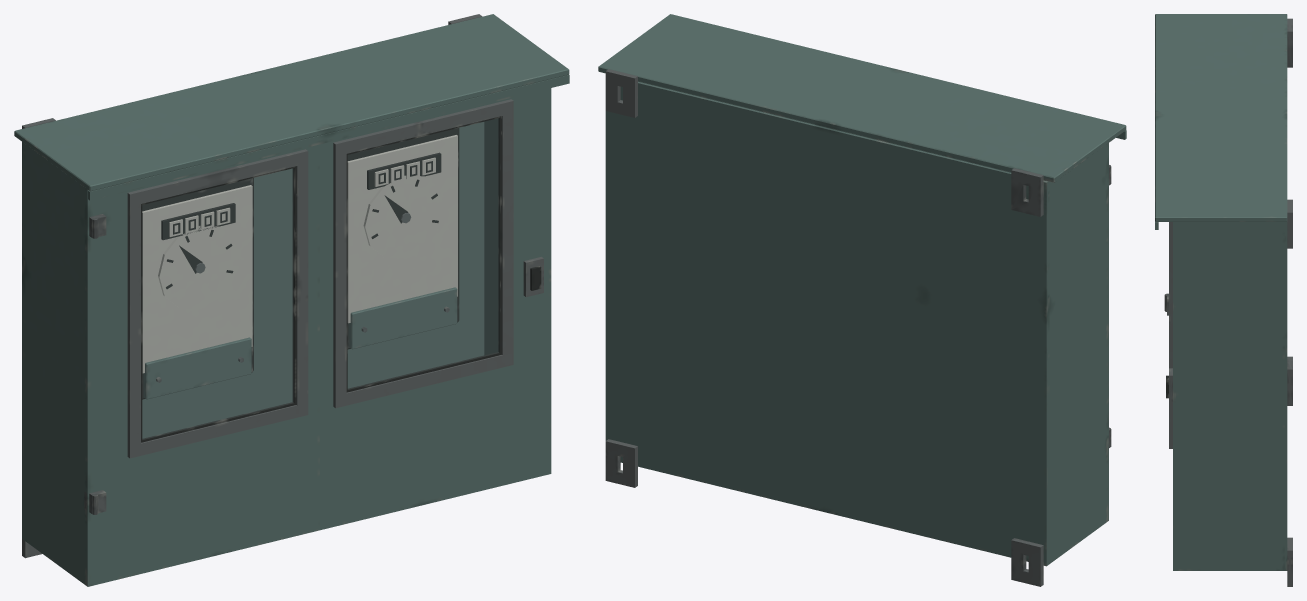
The model's file is wall_electric_meter_double.glb.
3 views of the same model, side by side, from view 1: azimuth 30°, elevation 25°; view 2: azimuth 150°, elevation 25°; view 3: azimuth 270°, elevation 25° (orthographic). The views are drawn at different scales.
Visible parts, largest first — view 1: WallElectricMeterDouble, WallElectricMeterDoubleGlass; view 2: WallElectricMeterDouble; view 3: WallElectricMeterDouble.
Part boxes in pixels (x1,y1,x2,y2): WallElectricMeterDouble: [14, 14, 569, 586]; WallElectricMeterDoubleGlass: [143, 118, 498, 438]; WallElectricMeterDouble: [598, 14, 1126, 586]; WallElectricMeterDouble: [1155, 14, 1292, 586].
Bounding box in the file's own units: 0.7 × 0.6 × 0.2.
2 materials, 1 textured.
